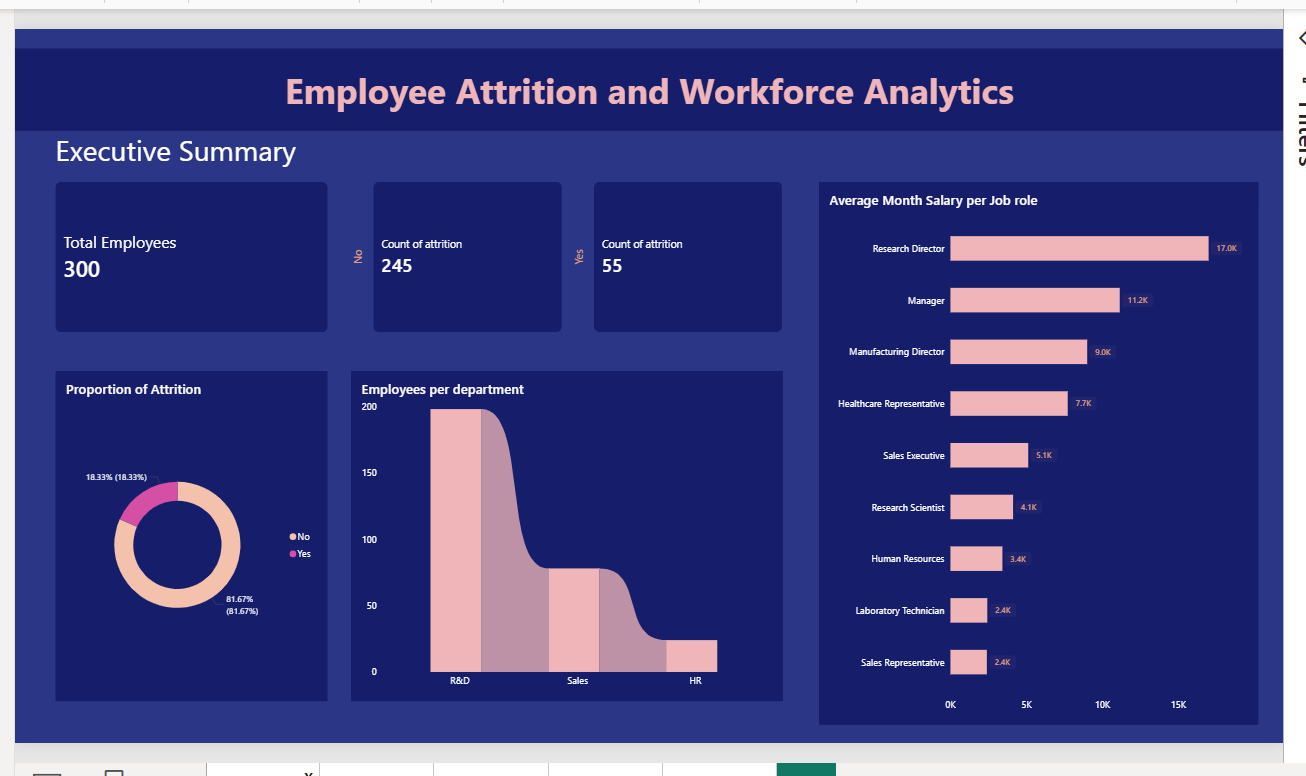

Layout of this report page (visuals, bound fields, positions):
{"tool":"powerbi","page":{"name":"Page 1","canvas":[1920,1080],"ordinal":0},"visuals":[{"type":"cardVisual","fields":{"Data":["CountNonNull(attrition.employee_id)"]},"box":[61.6,232.1,412.1,227.4],"z":0},{"type":"cardVisual","fields":{"Rows":["attrition.attrition"],"Data":["CountNonNull(attrition.attrition)"]},"box":[509.2,232.1,653.7,227.4],"z":1000},{"type":"barChart","title":"Average Month Salary per Job role","fields":{"Y":["Avg(attrition.monthly_salary)"],"Category":["attrition.job_role"]},"box":[1217.4,232.1,665.5,821.9],"z":2000},{"type":"donutChart","title":"Proportion of Attrition","fields":{"Category":["attrition.attrition"],"Y":["CountNonNull(attrition.attrition)"]},"box":[61.6,518.7,412.1,499.7],"z":3000},{"type":"columnChart","title":"Employees per department","fields":{"Y":["CountNonNull(attrition.employee_id)"],"Category":["attrition.department"]},"box":[509.2,518.7,653.7,499.7],"z":4000},{"type":"shape","box":[0,29.5,1921.5,124.9],"z":5000},{"type":"textbox","box":[61.3,154.4,856.3,77.2],"z":6000}]}

Visuals, with their boxes on the page's 1920x1080 design canvas (x1, y1, x2, y2). These are canvas units, not pixel positions in the 1306x776 screenshot, which may show the page scaled, cropped or inside an application window:
cardVisual - CountNonNull(attrition.employee_id): bbox=(62, 232, 474, 460)
cardVisual - attrition.attrition x CountNonNull(attrition.attrition): bbox=(509, 232, 1163, 460)
"Average Month Salary per Job role" barChart: bbox=(1217, 232, 1883, 1054)
"Proportion of Attrition" donutChart: bbox=(62, 519, 474, 1018)
"Employees per department" columnChart: bbox=(509, 519, 1163, 1018)
shape: bbox=(0, 30, 1922, 154)
textbox: bbox=(61, 154, 918, 232)
